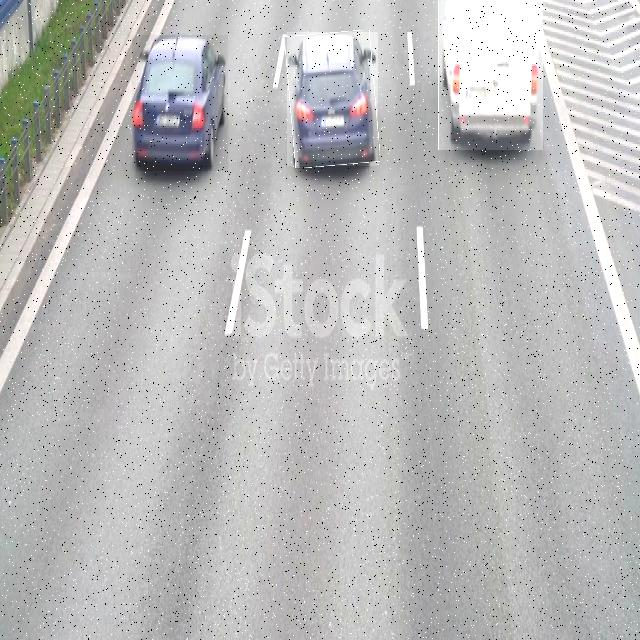Car: (132, 35, 228, 171), (287, 32, 378, 166)
Truck: (438, 0, 543, 150)
